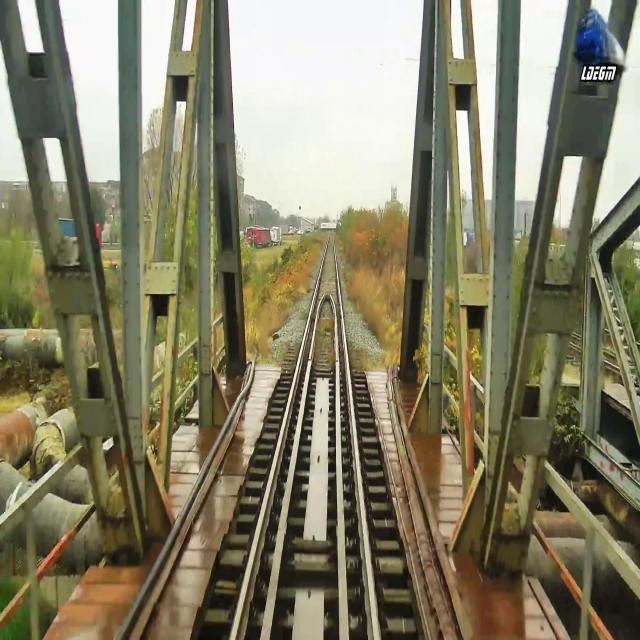rail-track: (235, 231, 373, 639)
